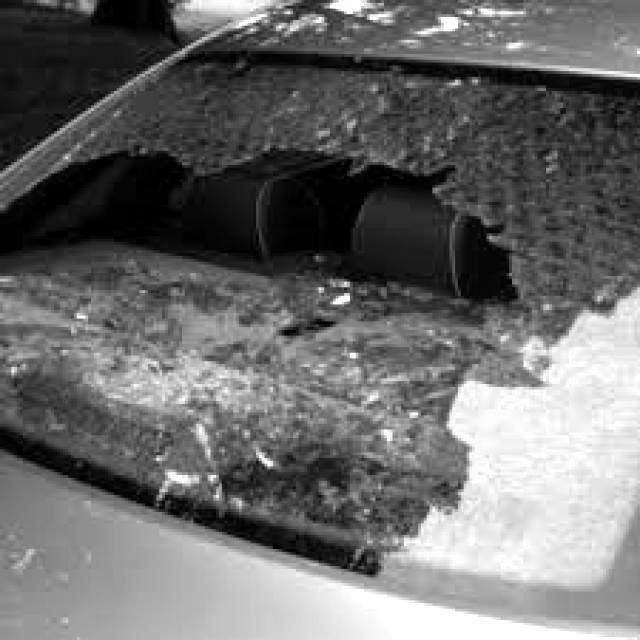Rear-windscreen-Damage: (0, 54, 636, 586)
